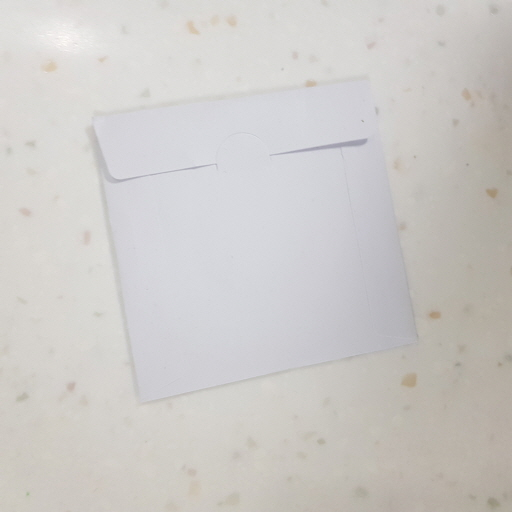Paper_2: (80, 71, 439, 415)
